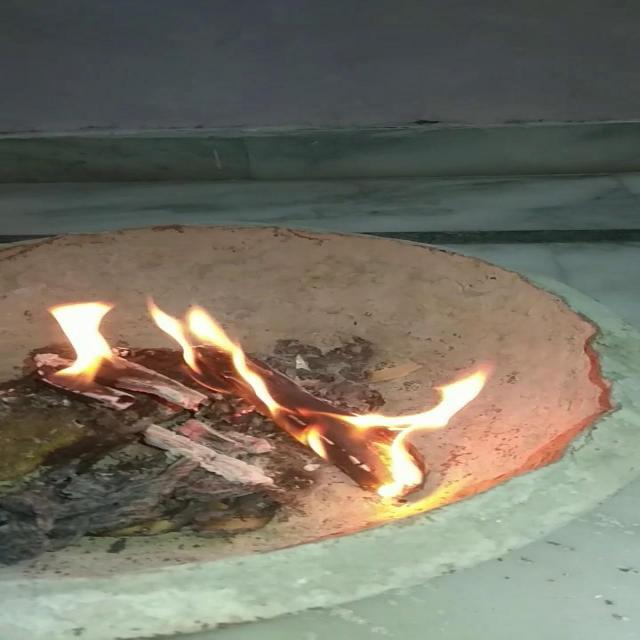fire: (28, 291, 500, 498)
